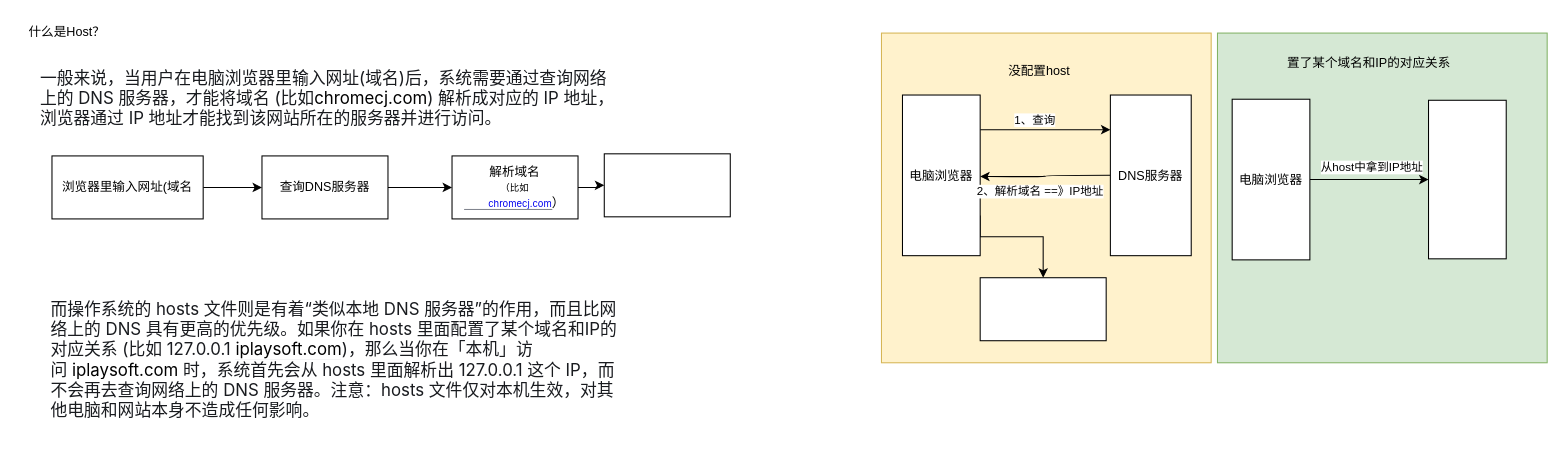
Image size: 1566x454. Some labels were removed from this diagram. The box of each missing label's shape, as (x1, y1, x2, y2) in pixels:
3、通过IP地址访问网站的服务器: (979, 277, 1106, 341)
直接访问网站的服务器: (1427, 99, 1506, 259)
网站IP地址: (603, 153, 730, 217)
